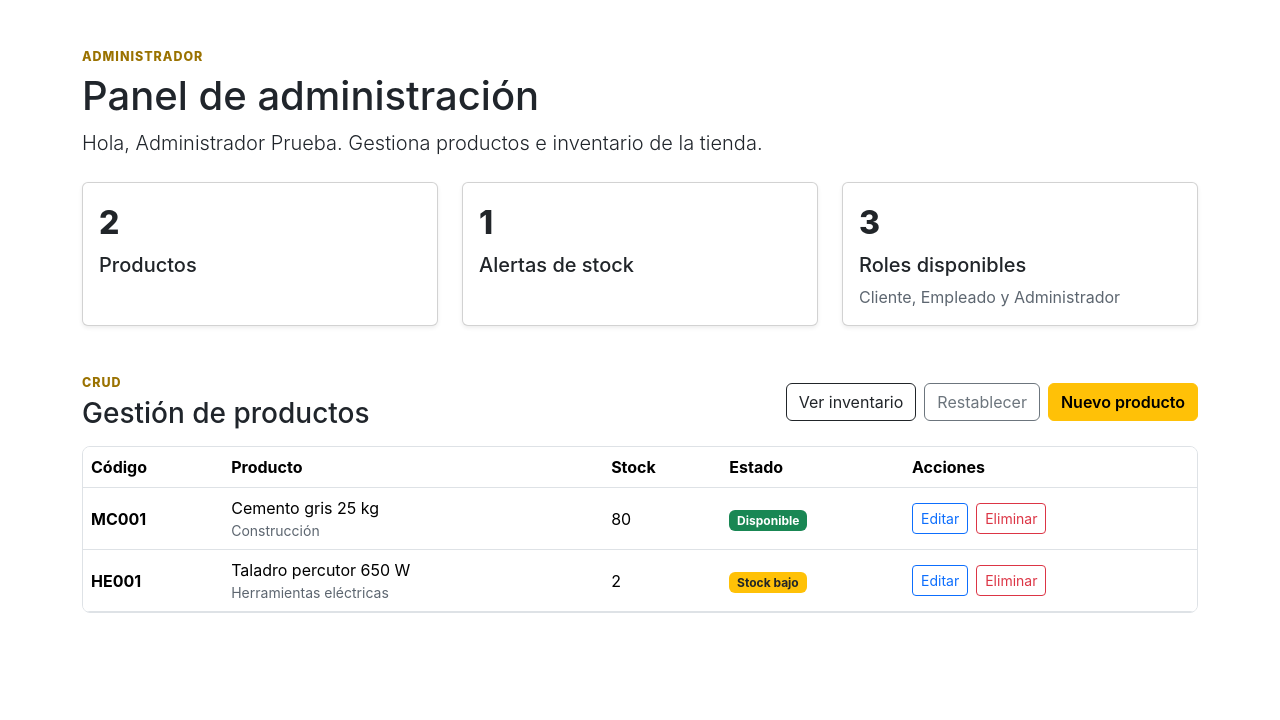
Integrante 3 - PanelAdmin › 29. solicita confirmación antes de eliminar y elimina únicamente cuando el usuario acepta
Click the button "Eliminar" in the row of "MC001".
click(1011, 519)  # box [976,503,1046,534]
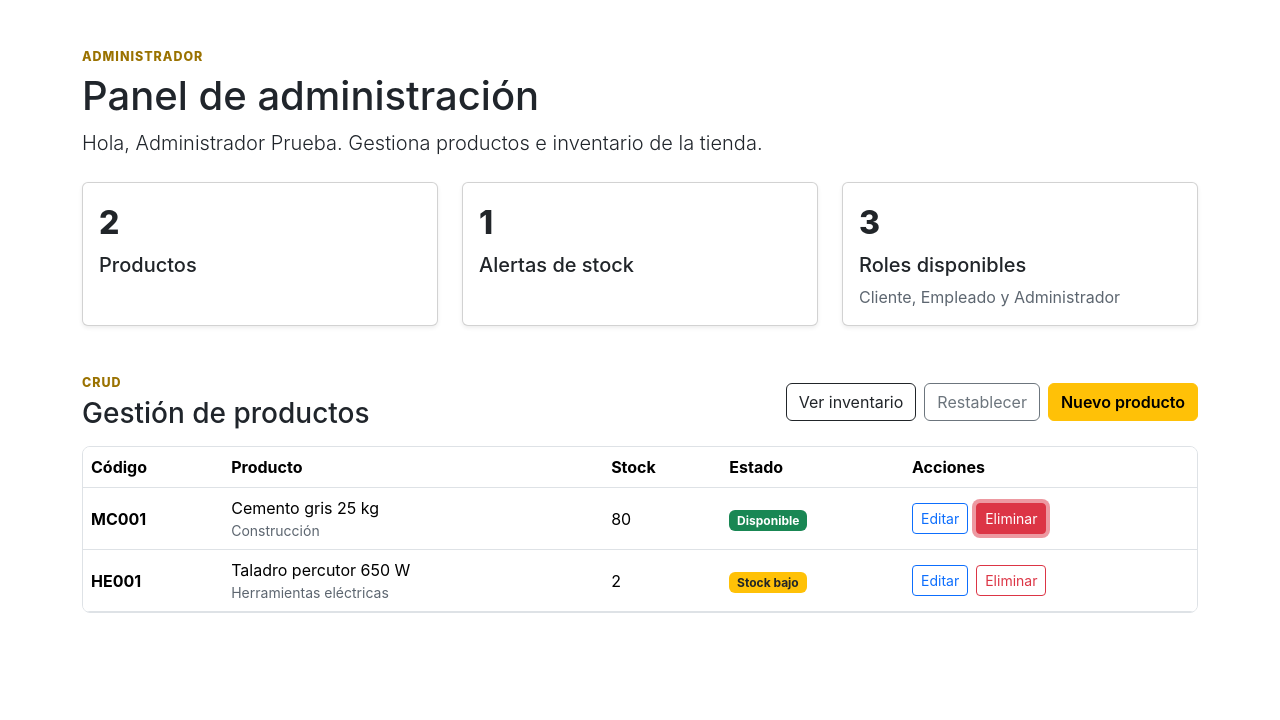
Click the button "Eliminar" in the row of "MC001".
click(1011, 519)  # box [976,503,1046,534]
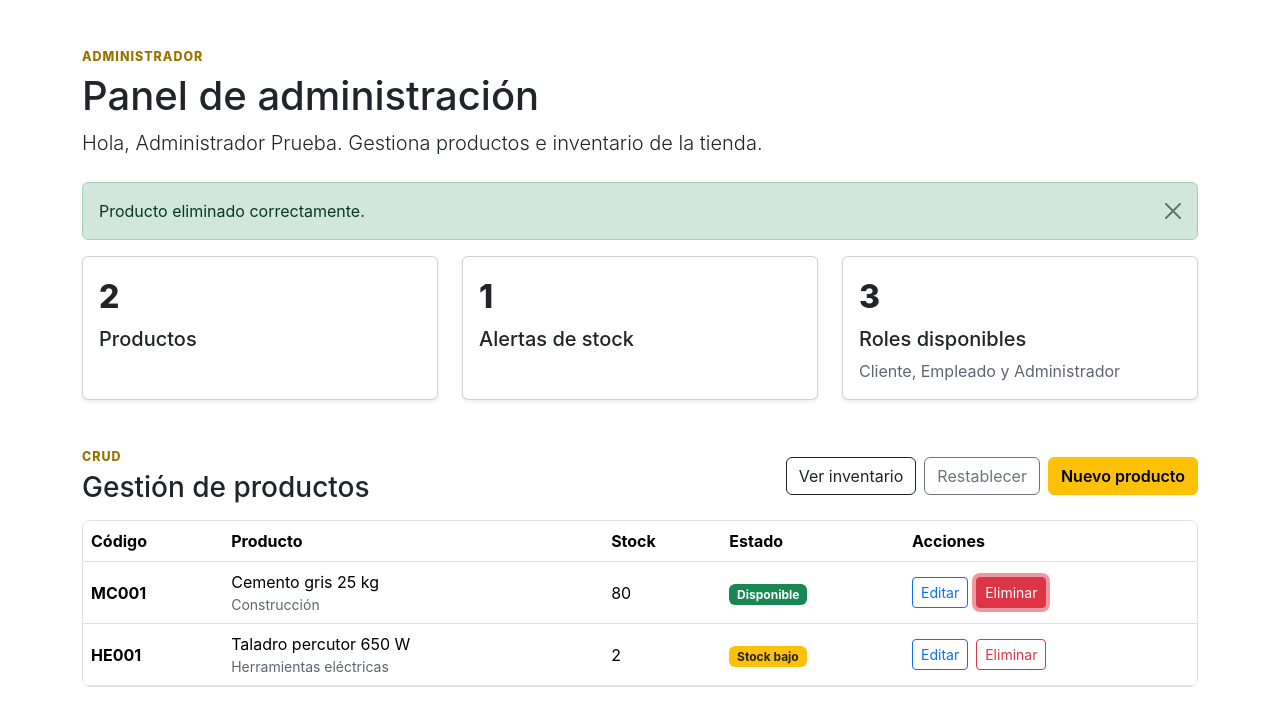
Expected: the text "Producto eliminado correctamente." is shown, [82,182,1198,240]
